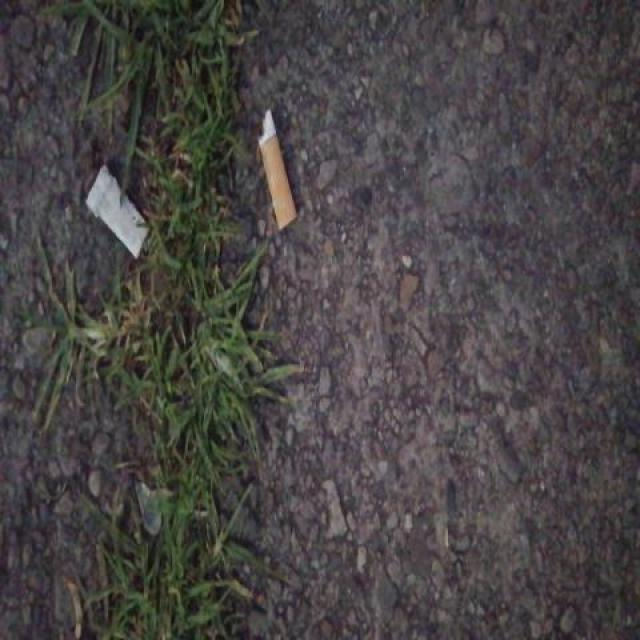non-organic waste: (83, 161, 153, 262), (254, 105, 302, 238)
